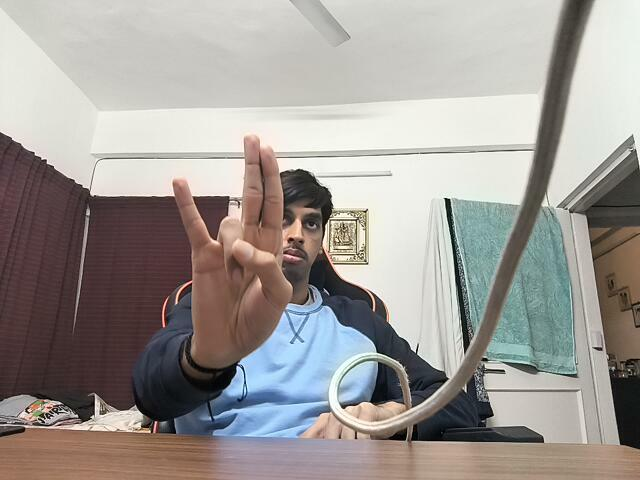BACKWARD: (165, 129, 297, 368)
